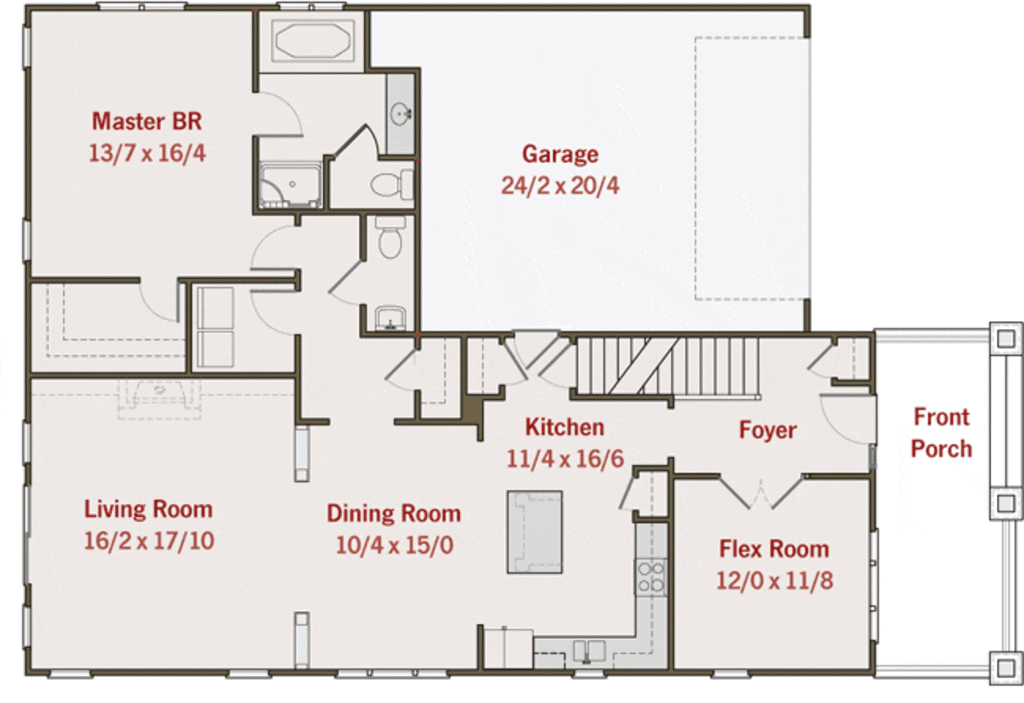door: (812, 390, 890, 448), (713, 471, 808, 515), (244, 221, 312, 272), (246, 280, 304, 339), (248, 86, 308, 139), (511, 322, 567, 378), (138, 277, 191, 332), (536, 335, 581, 394), (324, 118, 381, 162), (486, 336, 530, 384), (332, 262, 375, 310), (381, 347, 422, 396), (805, 335, 845, 383)
kitchen_bar: (486, 475, 573, 581)
large_sink: (375, 216, 420, 269), (373, 166, 422, 210)
sink: (357, 303, 419, 332)
small_sink: (383, 76, 421, 151)
stairs: (577, 337, 776, 412)
tub: (256, 4, 373, 77)
twin_sink: (561, 631, 616, 669)
window: (858, 522, 890, 651), (336, 660, 450, 678), (13, 22, 46, 82), (14, 418, 42, 472), (42, 664, 104, 685), (95, 1, 191, 13), (712, 668, 762, 687), (566, 667, 611, 688), (19, 219, 39, 264), (21, 601, 38, 653), (228, 666, 274, 683)
